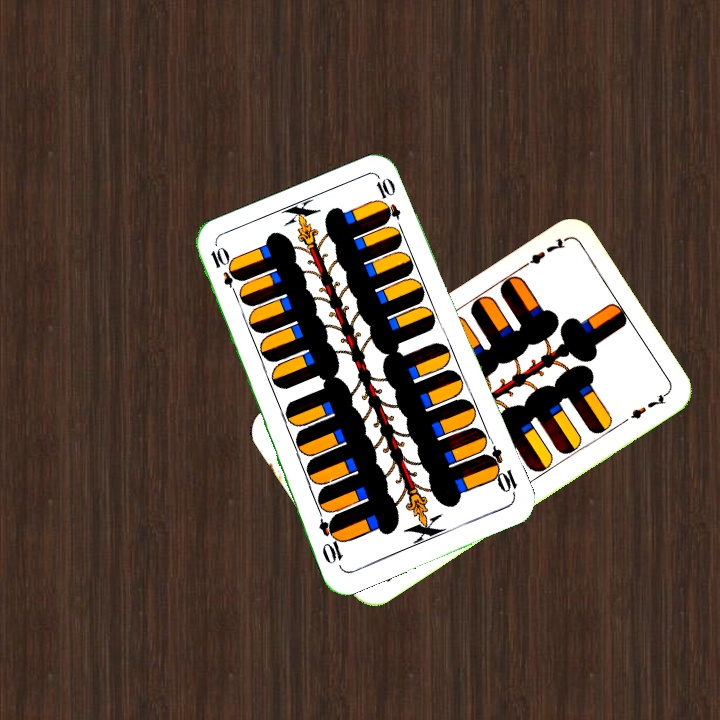E10: (480, 443, 520, 499), (206, 243, 243, 300)
E7: (515, 233, 568, 272)
